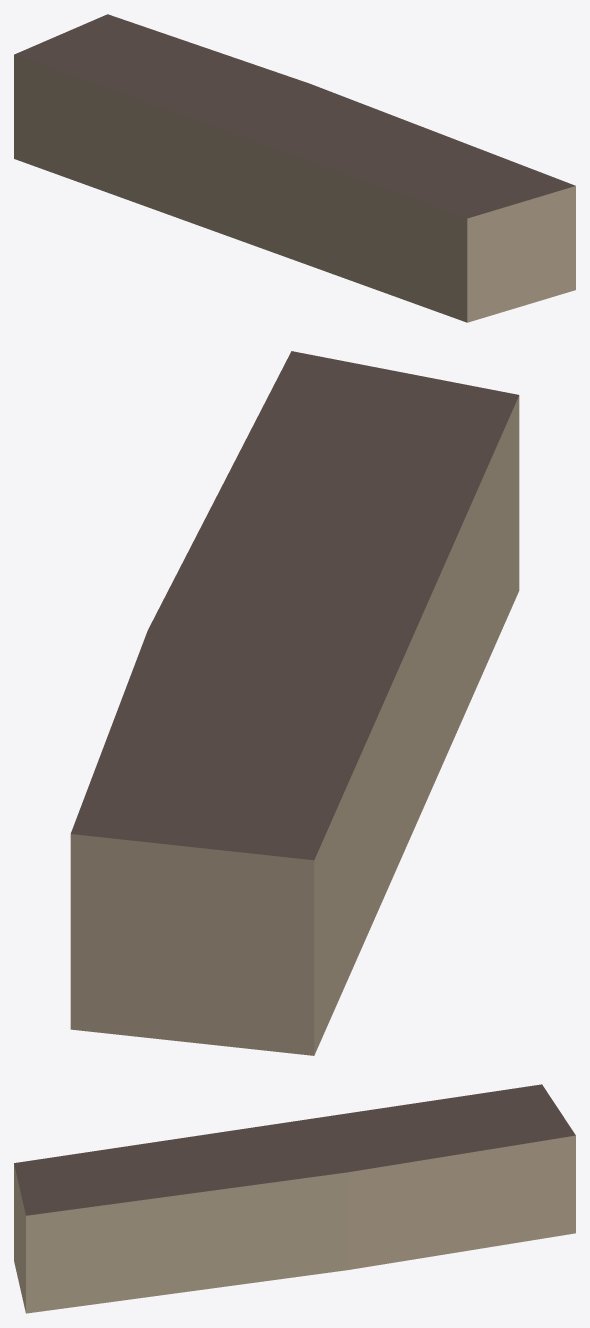
The picture shows the model from 3 angles, top to bottom: view 1: azimuth 30°, elevation 25°; view 2: azimuth 150°, elevation 25°; view 3: azimuth 270°, elevation 25°; orthographic projection. The views are drawn at different scales.
Visible parts, largest first — view 1: HP-w1512911275; view 2: HP-w1512911275; view 3: HP-w1512911275.
Part boxes in pixels (x1,y1,x2,y2): HP-w1512911275: (14,14,575,322); HP-w1512911275: (70,351,519,1055); HP-w1512911275: (14,1084,575,1313).
Bounding box in the file's own units: 25.95 × 9 × 46.87.
